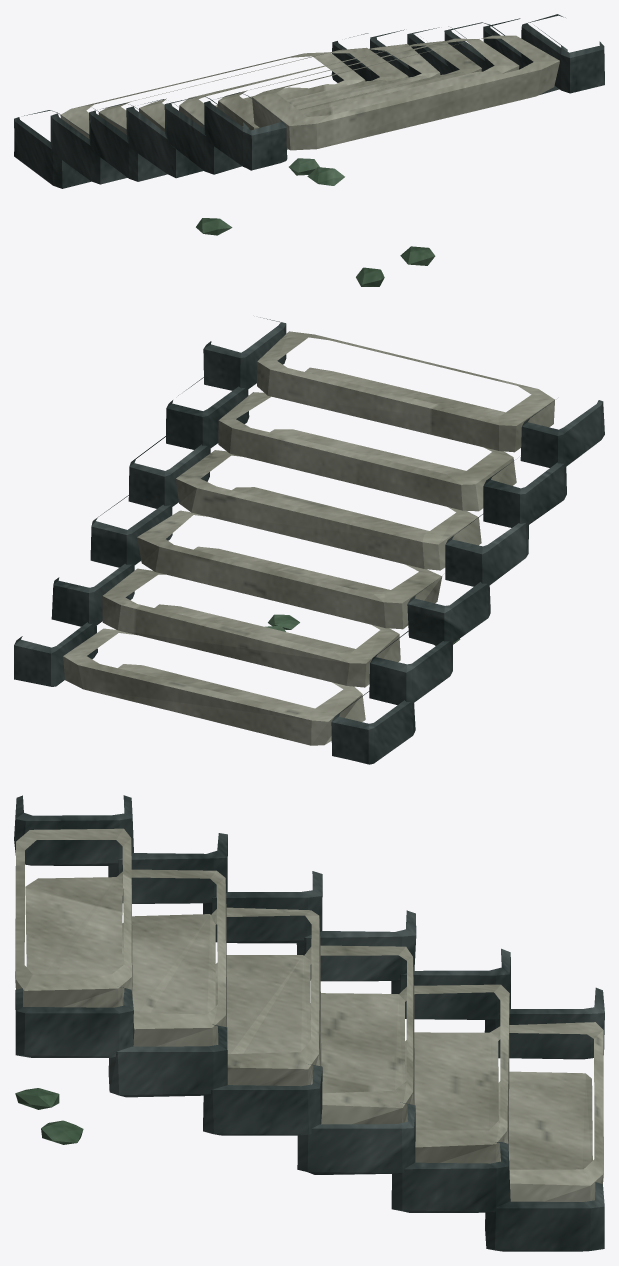
The model's file is 0351_stairs_01.glb.
3 renders of one model, top to bottom at view 1: azimuth 30°, elevation 25°; view 2: azimuth 150°, elevation 25°; view 3: azimuth 270°, elevation 25°, orthographic. The views are drawn at different scales.
Parts seen in each view (by area): view 1: stone_light, stone_dark, moss; view 2: stone_light, stone_dark; view 3: stone_light, stone_dark, moss.
Boxes of the visible parts, x1,y1,x2,y2 form: stone_light: (60,35,559,150); stone_dark: (14,14,604,188); moss: (196,158,435,286); stone_light: (63,331,554,745); stone_dark: (14,317,604,764); stone_light: (15,828,603,1201); stone_dark: (14,795,604,1251); moss: (15,1088,83,1144).
Size of the model in its own units: 2.42 by 1.27 by 2.76.
3 materials, 3 textured.
